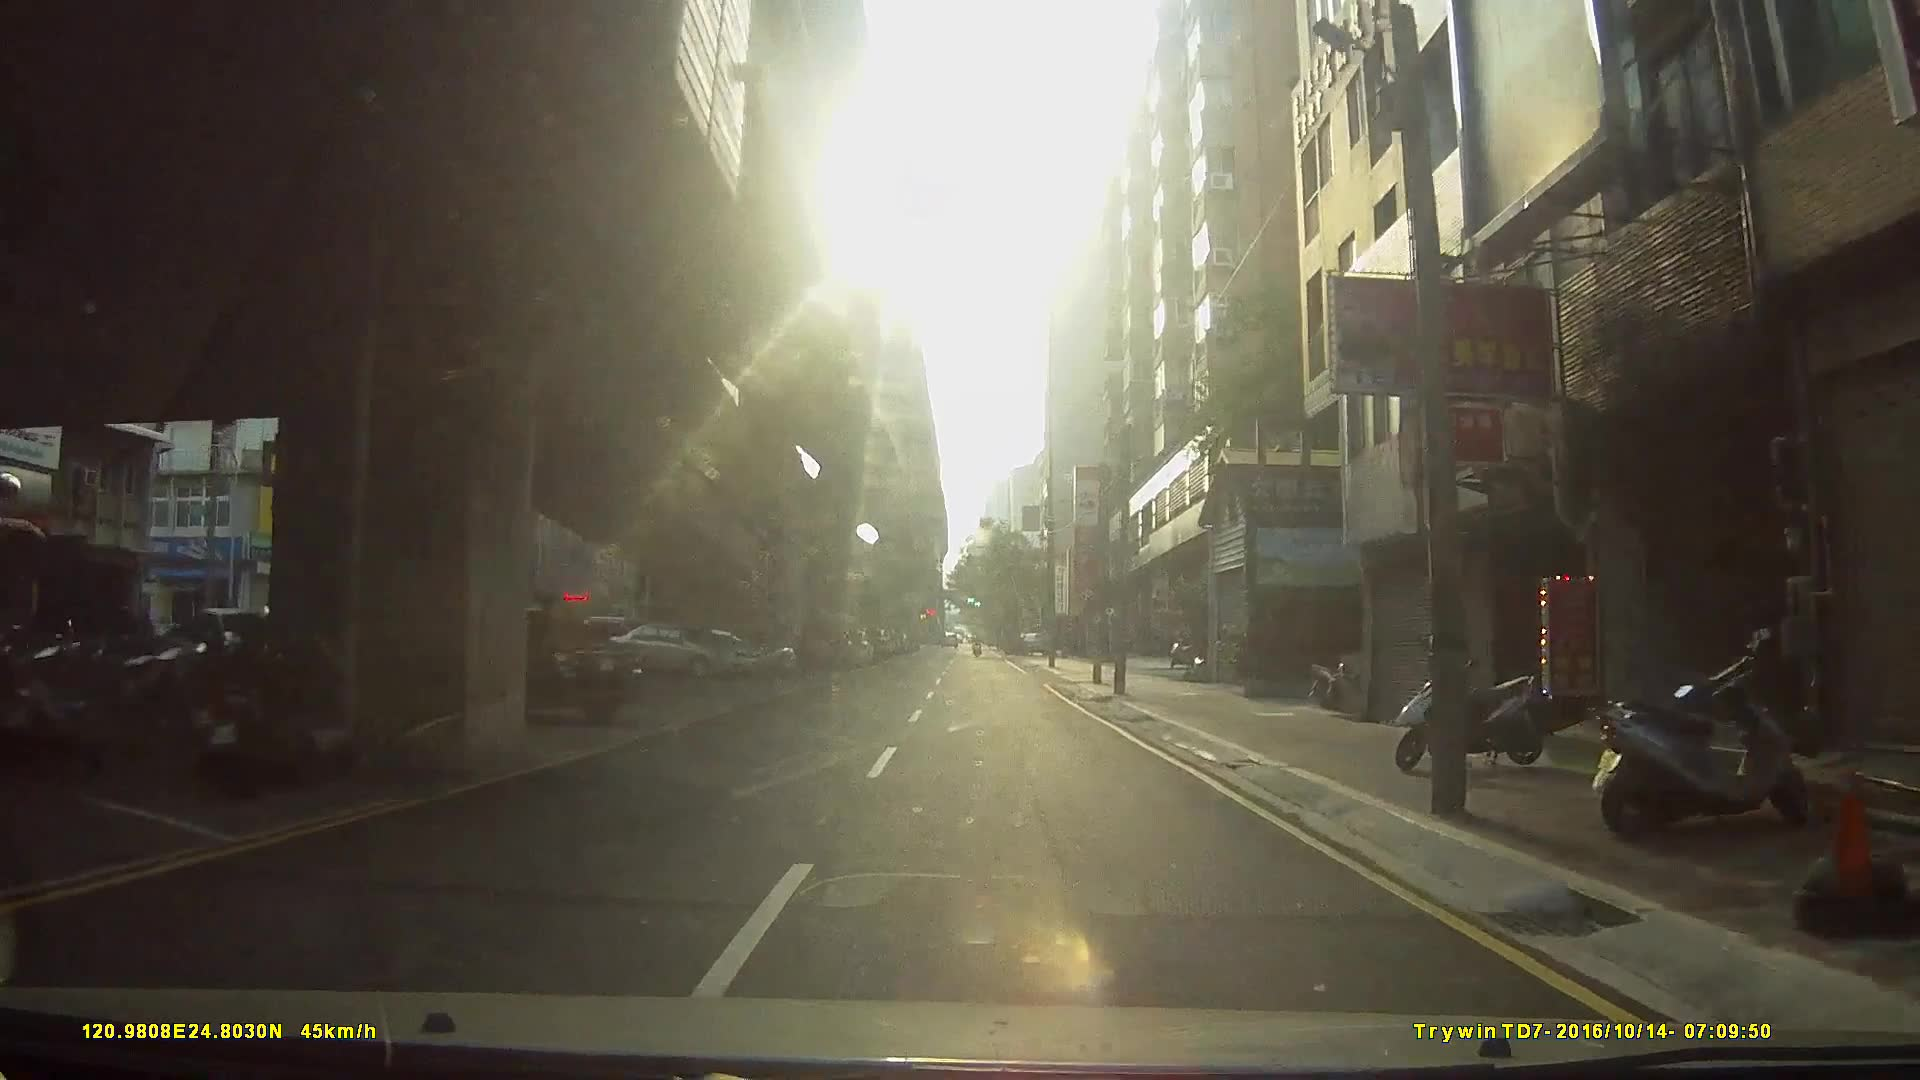vehicle: (438, 612, 642, 724), (607, 622, 762, 680)
